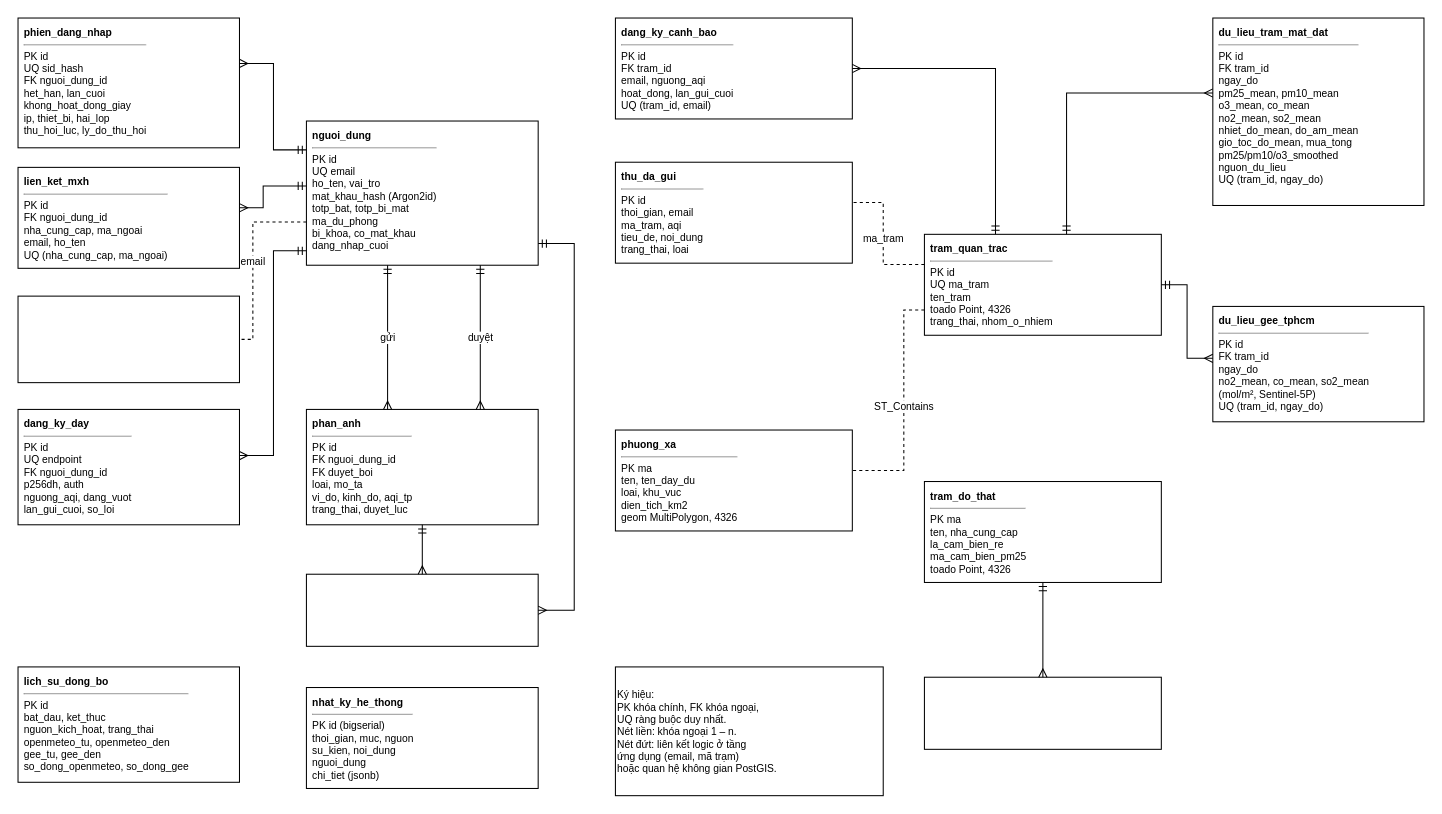
Some shapes in this 1442 by 814 pixel diagram are drawn without their labels. Each missing label, with the centre of its shape:
"do_that_gio PK, FK ma_tram PK gio pm25" goes at pixel 1042 712.
"otp_reset PK id email ma_hash, het_han so_lan_thu, da_dung, ip" goes at pixel 128 339.
"phan_anh_xac_nhan PK, FK phan_anh_id PK, FK nguoi_dung_id tao_luc" goes at pixel 421 609.
